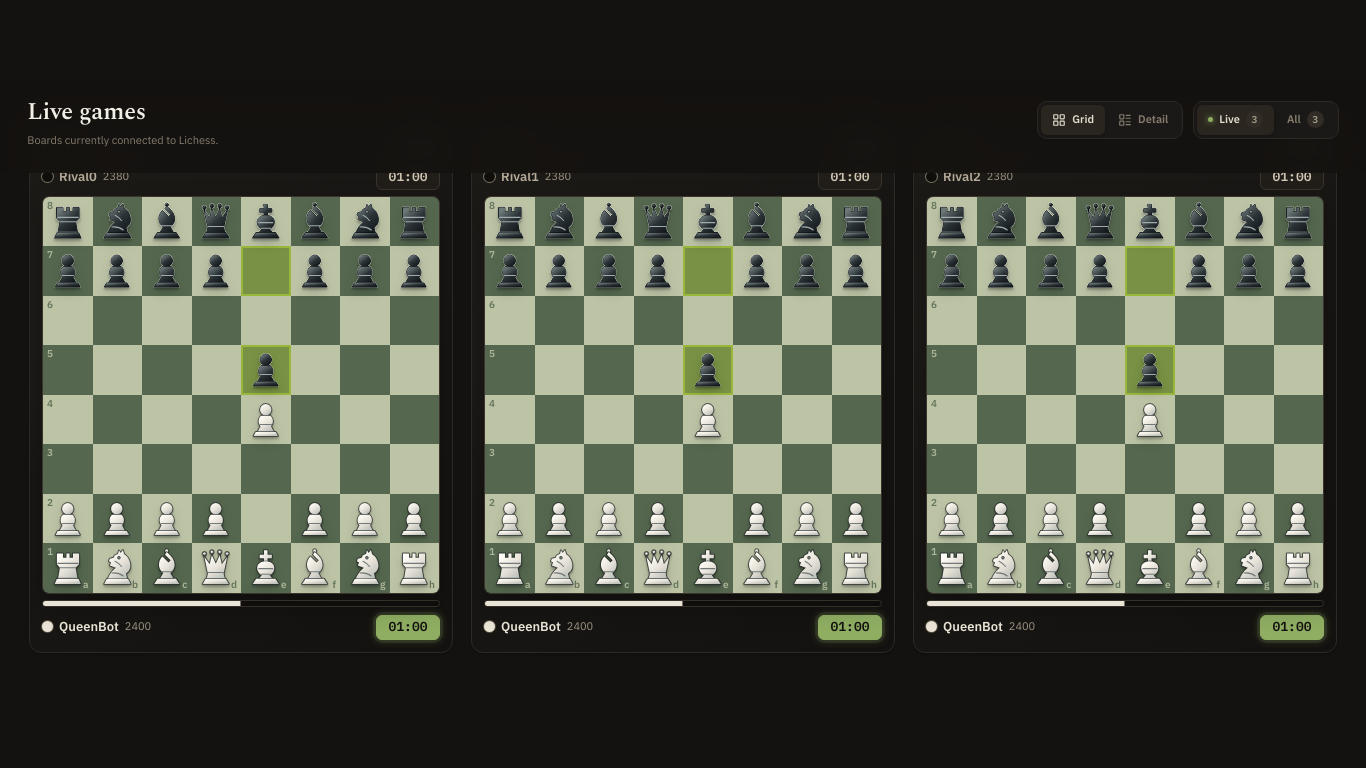
it: choosing a game, and getting back out of it › returns to the grid it was entered from, by key and by button
Click the button named "Focus on QueenBot versus Rival1".
click(683, 387)  # box [472, 122, 894, 652]
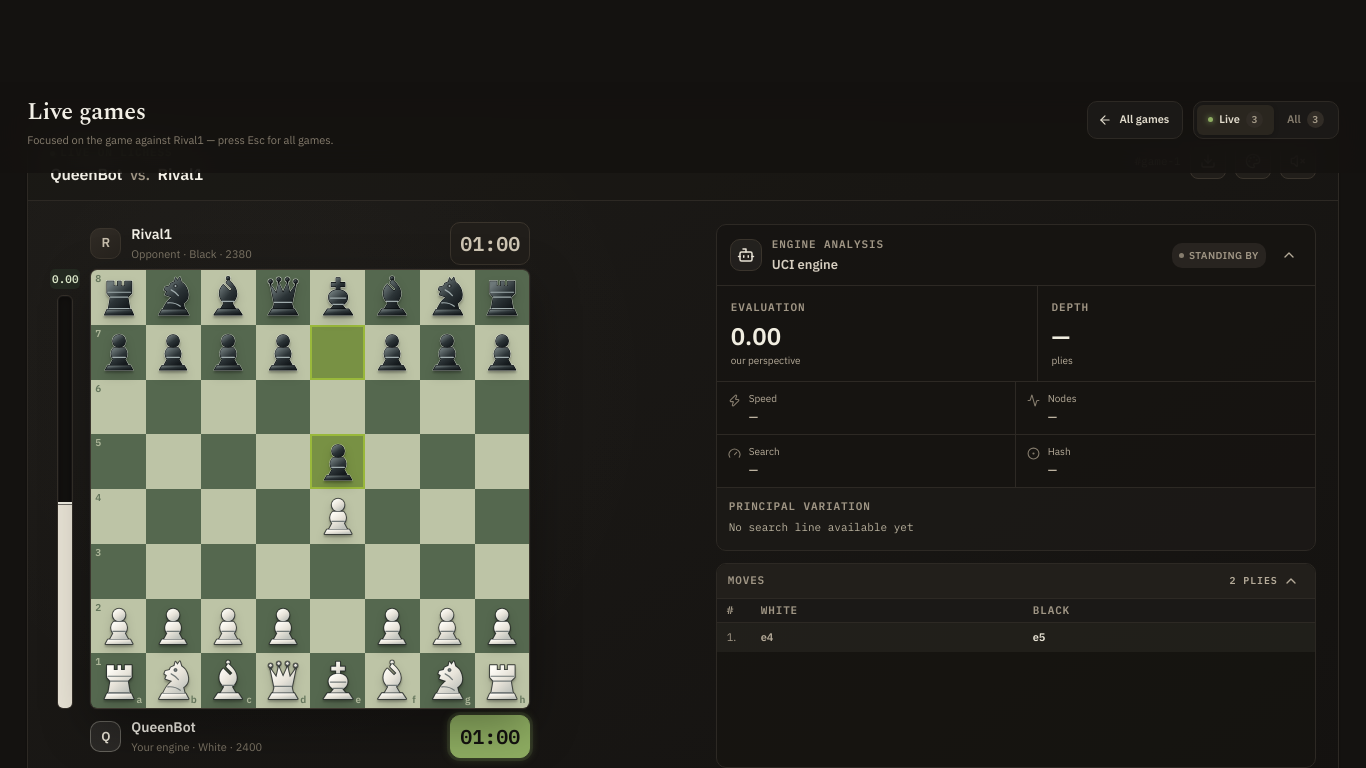
Press Escape
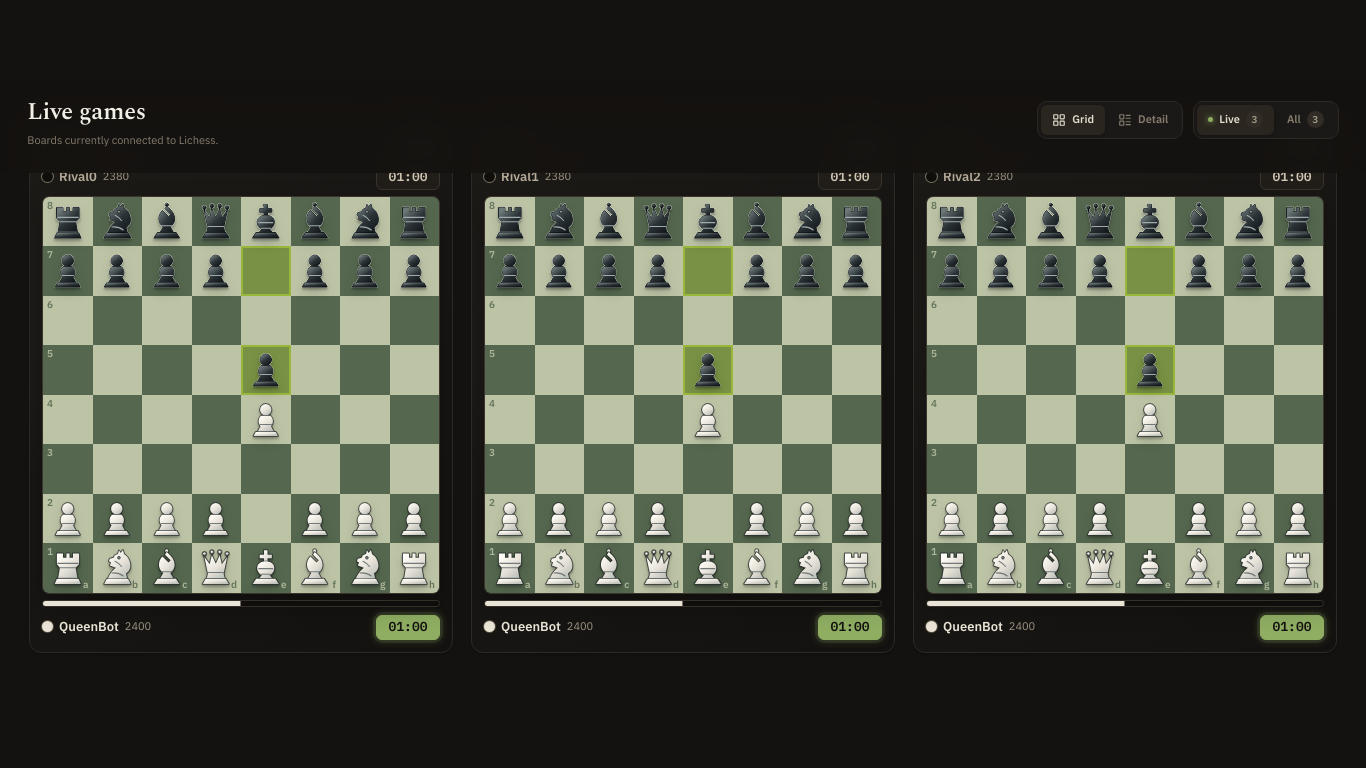
Expected: the number of elements with class "game-tile" is 3
Click the button named "Focus on QueenBot versus Rival0".
click(241, 387)  # box [30, 122, 452, 652]
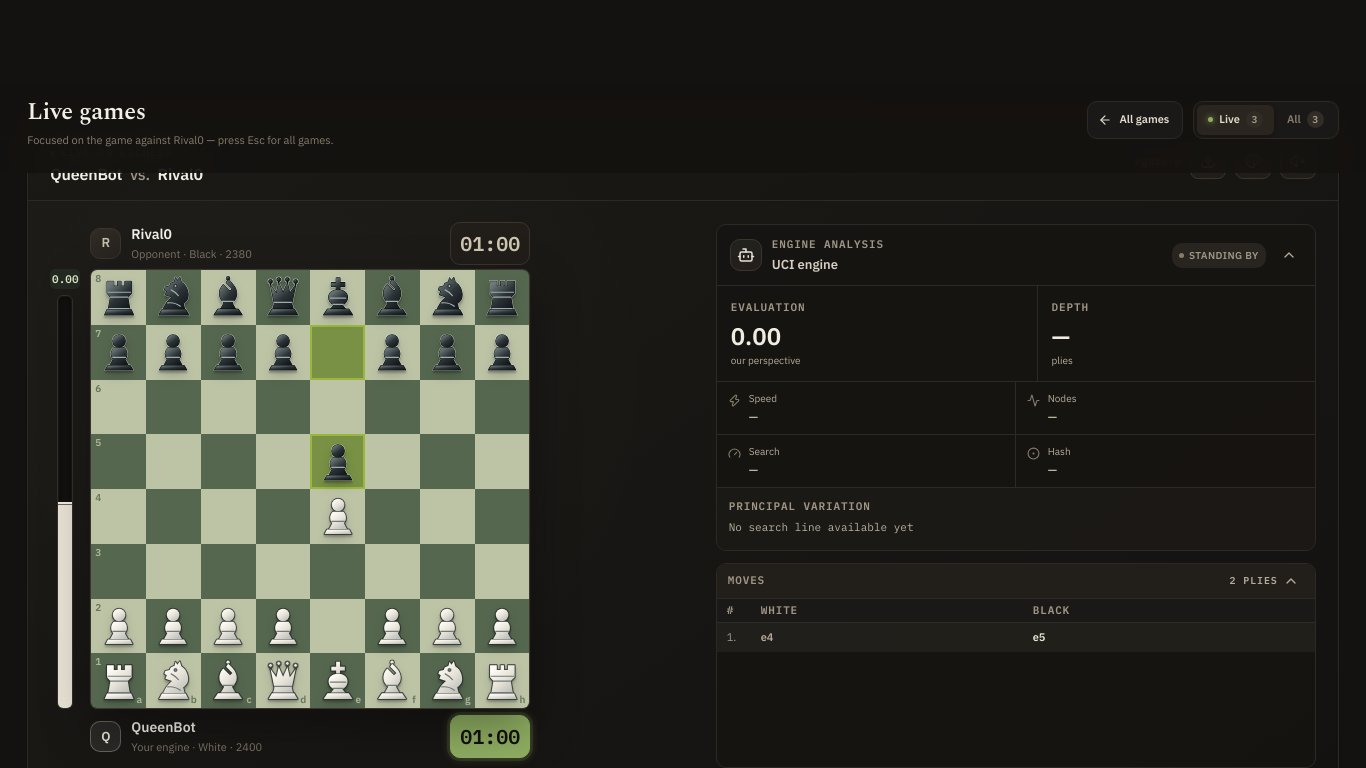
Click the button with aria-label "Back to all games".
click(1135, 120)  # box [1087, 100, 1183, 138]
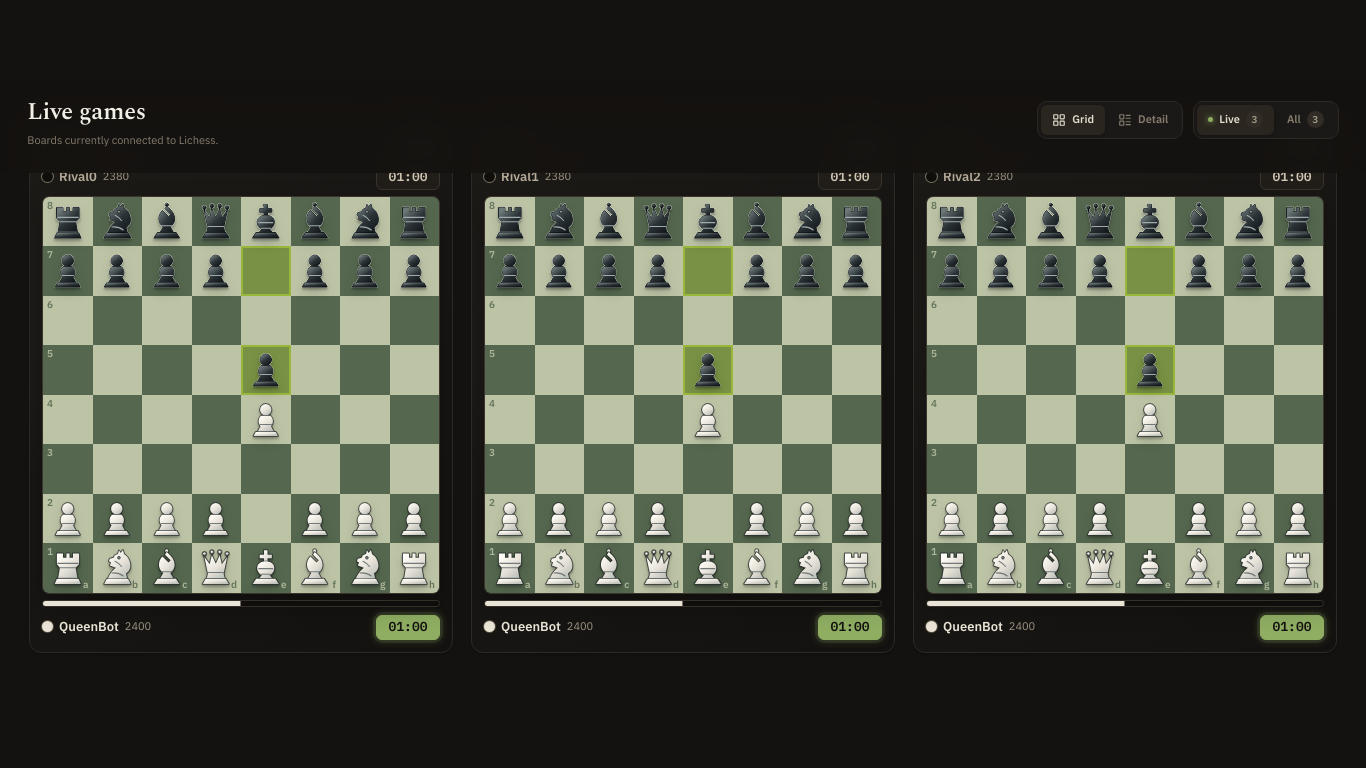
Expected: the number of elements with class "game-tile" is 3, [29, 121, 453, 653]; [471, 121, 895, 653]; [913, 121, 1337, 653]
